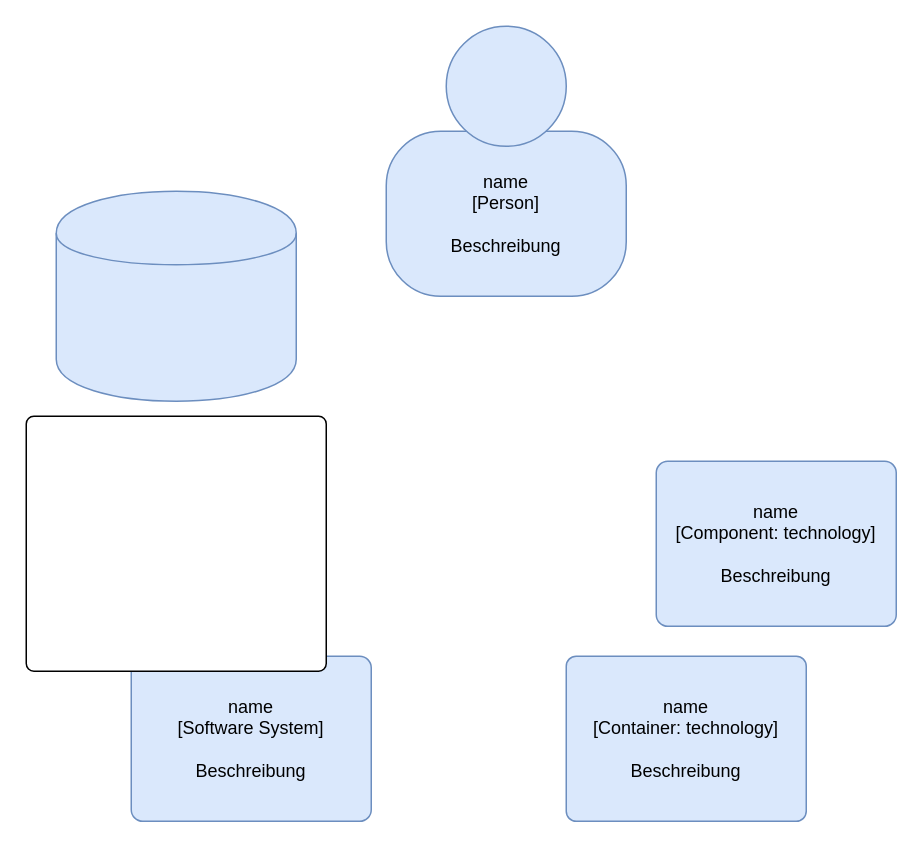
The diagram is 923 pixels wide and 848 high, and some of its shapes have lost their labels. The centre of each missing label's shape, as x and y in pixels:
"Database [Container: technology] Beschreibung" goes at point (175, 295).
"name [applicationAndVersion]" goes at point (175, 543).
